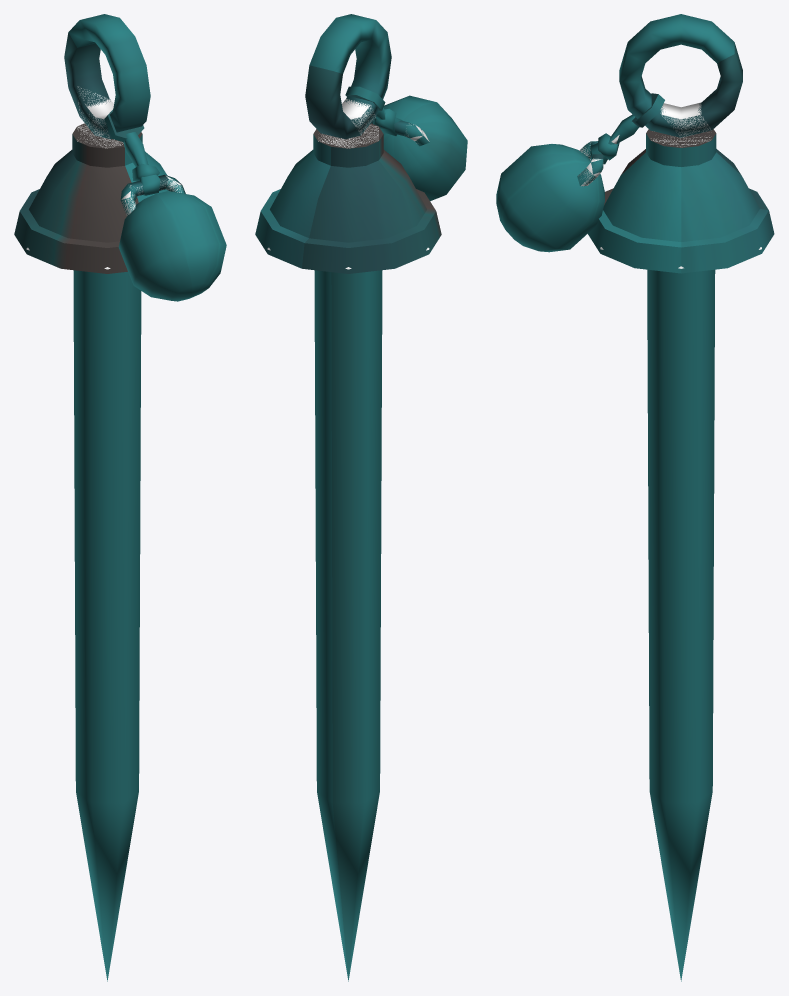
File: objects_un_slshrine01_pile_ne.gltf
3 renders of one model, left to right at view 1: azimuth 30°, elevation 25°; view 2: azimuth 150°, elevation 25°; view 3: azimuth 270°, elevation 25°, orthographic.
Visible parts, largest first — view 1: nomerge_bell_shape:objects_un_slshrine01_ne_04, shadow_model_shape:objects_un_slshrine01_shadow; view 2: nomerge_bell_shape:objects_un_slshrine01_ne_04, shadow_model_shape:objects_un_slshrine01_shadow; view 3: nomerge_bell_shape:objects_un_slshrine01_ne_04, shadow_model_shape:objects_un_slshrine01_shadow.
Part boxes in pixels (x1,y1,x2,y2): nomerge_bell_shape:objects_un_slshrine01_ne_04: (14,14,226,981); shadow_model_shape:objects_un_slshrine01_shadow: (26,86,182,269); nomerge_bell_shape:objects_un_slshrine01_ne_04: (255,14,467,981); shadow_model_shape:objects_un_slshrine01_shadow: (267,99,429,269); nomerge_bell_shape:objects_un_slshrine01_ne_04: (496,14,774,981); shadow_model_shape:objects_un_slshrine01_shadow: (578,102,761,268).
Size of what is drawn, in the model's own units: 0.3851 by 2.19 by 0.5735.
Materials: 2 (1 with a texture image).
